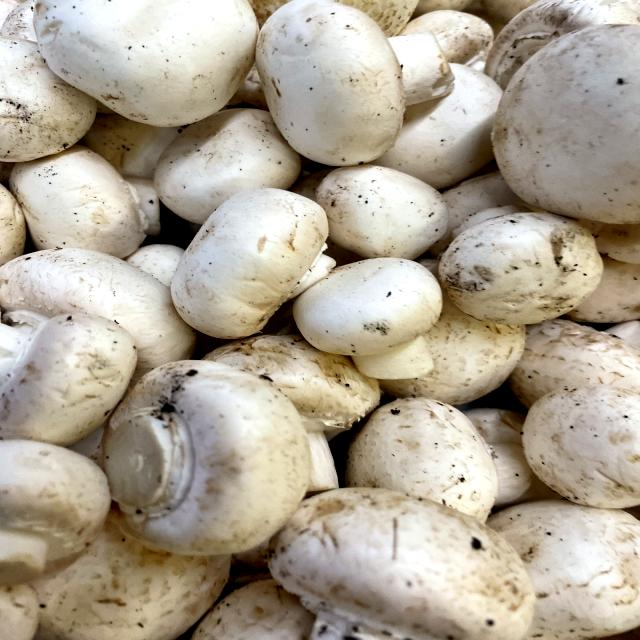mushroom: (94, 355, 322, 560), (249, 0, 460, 174), (149, 180, 344, 346), (272, 234, 452, 390)
